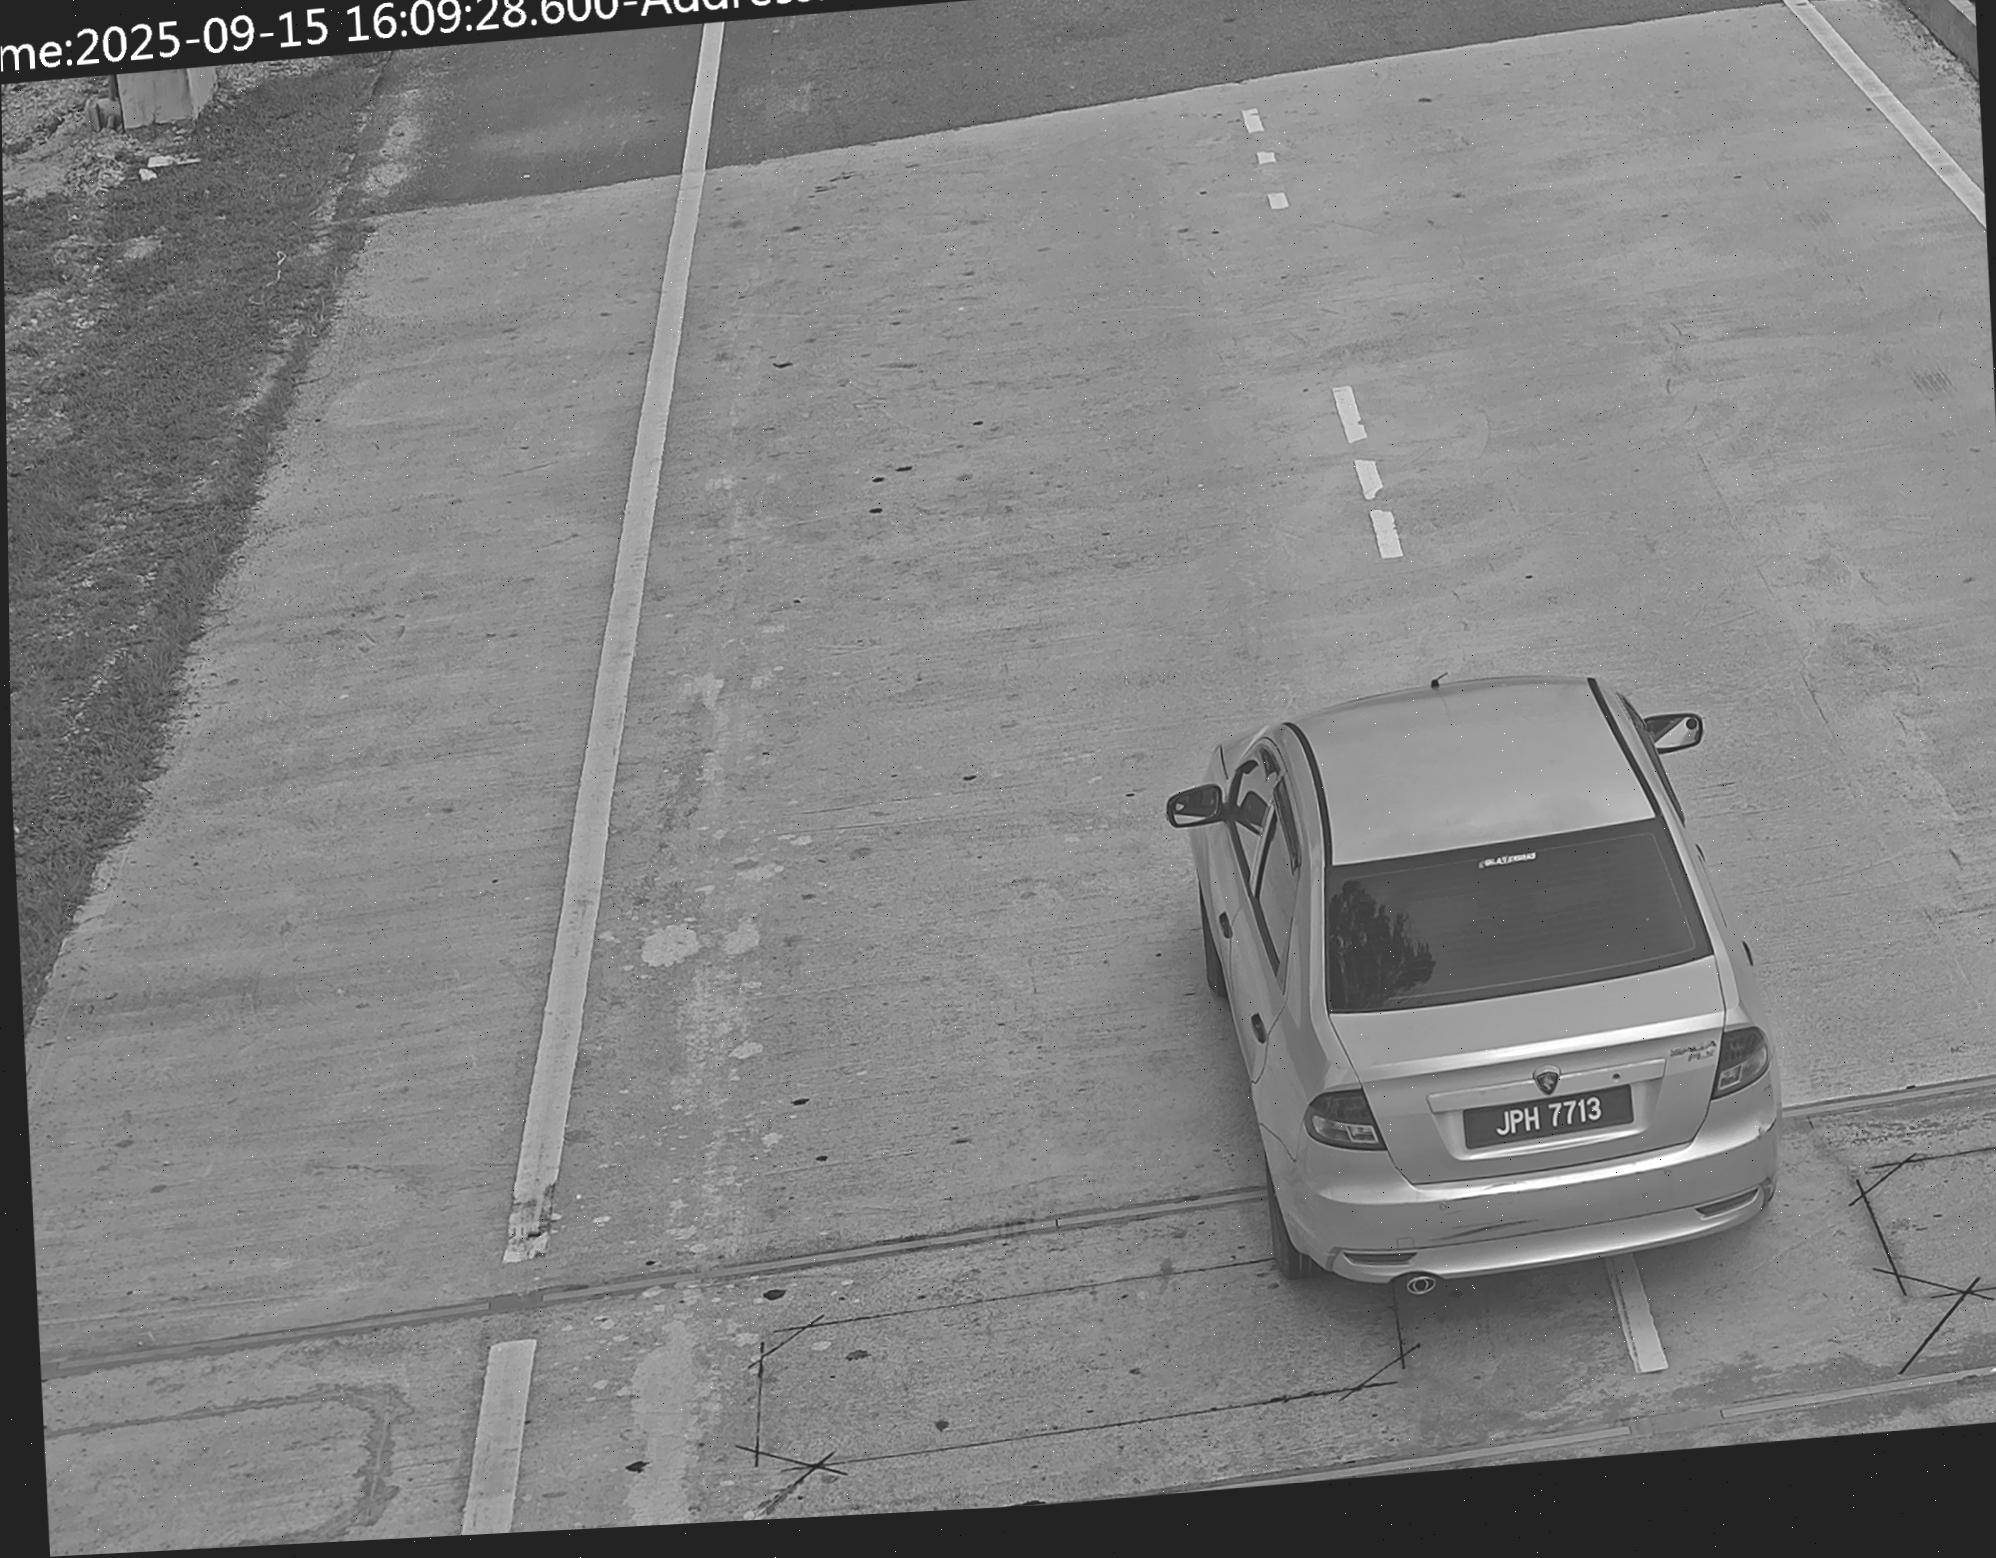non broken: (1469, 1095, 1630, 1145)
